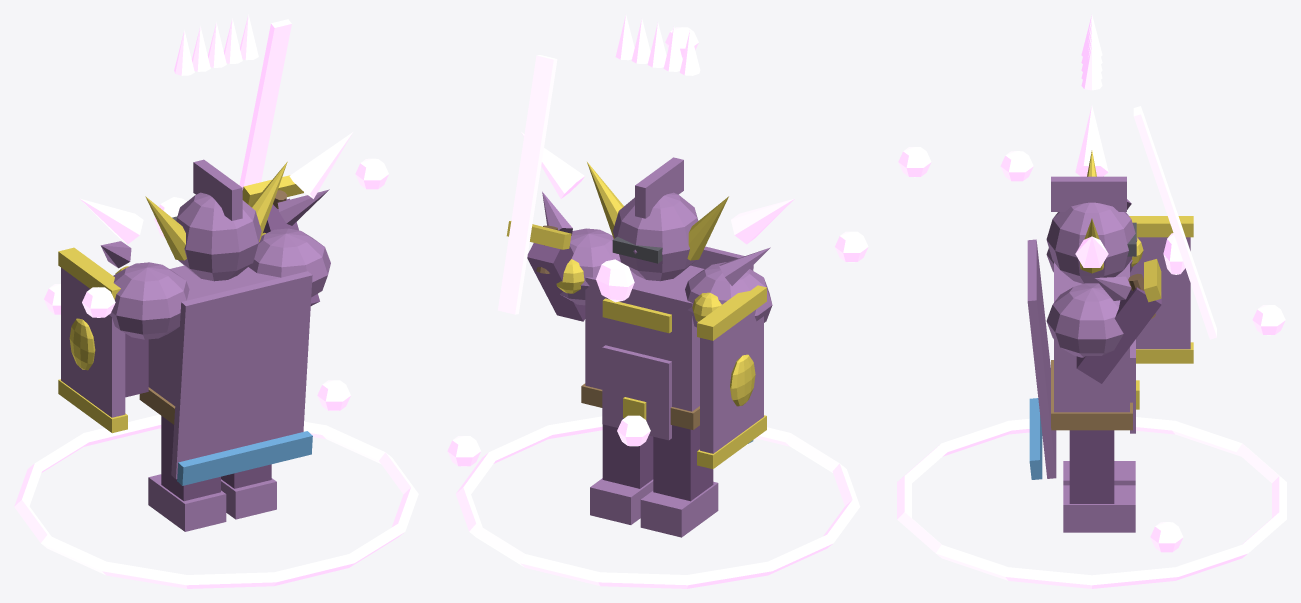
File: evolved_knight.glb
The picture shows the model from 3 angles, left to right: view 1: azimuth 30°, elevation 25°; view 2: azimuth 150°, elevation 25°; view 3: azimuth 270°, elevation 25°; orthographic projection.
Parts seen in each view (by area): view 1: evolved_knight; view 2: evolved_knight; view 3: evolved_knight.
Boxes of the visible parts, x1,y1,x2,y2 form: evolved_knight: (14,14,418,588); evolved_knight: (447,15,868,588); evolved_knight: (897,15,1286,588).
Size of the model in its own units: 2.9 by 3.85 by 2.83.
